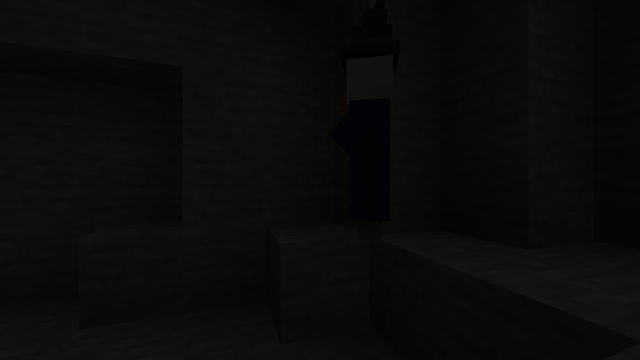sorcieres: (334, 42, 409, 244)
